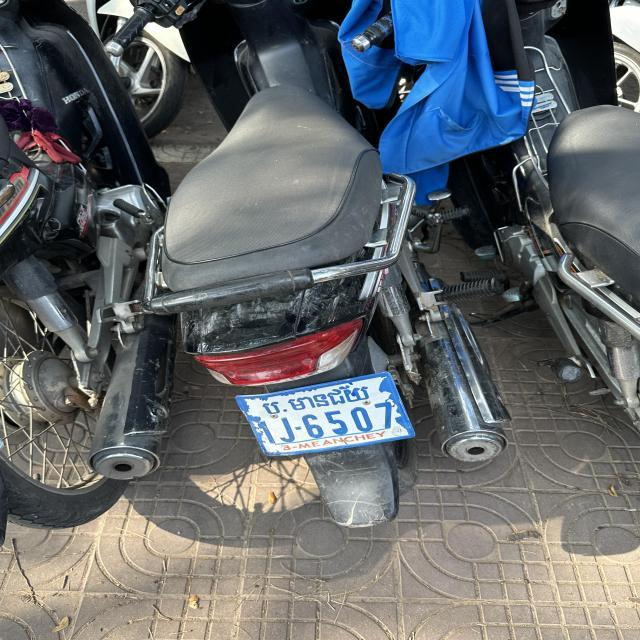Banteay_Meanchey: (259, 381, 371, 415)
